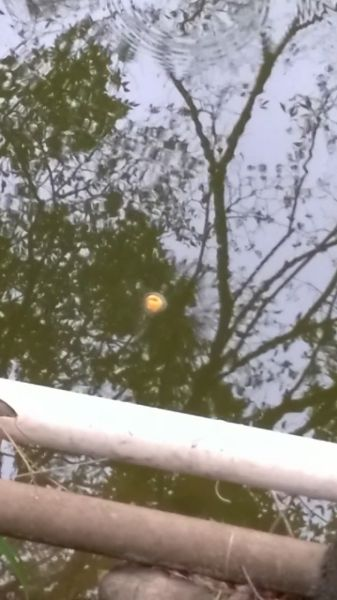eggs: (141, 288, 167, 319)
